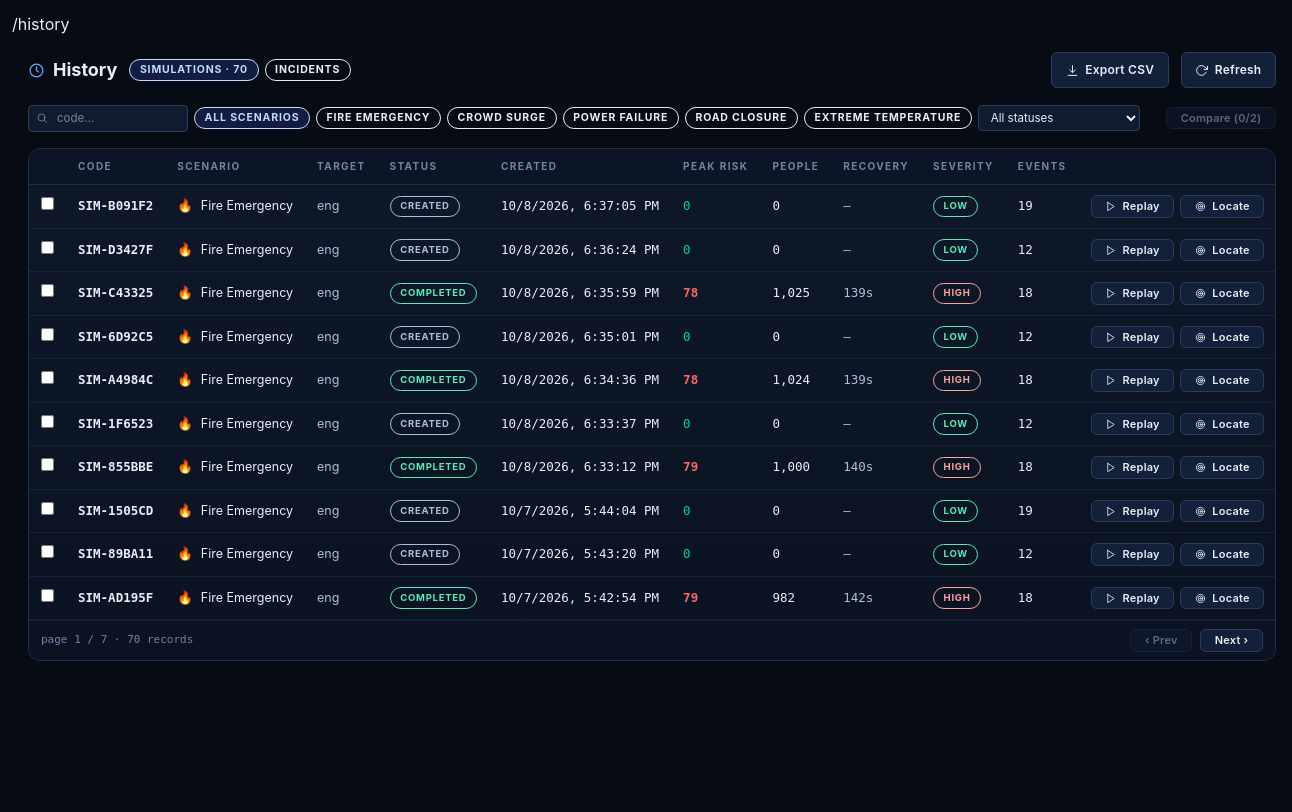
History §62 — simulations tab › filters by scenario through URL state
This screenshot has width=1292, height=812.
Click the button with test id "scenario-crowd": (502, 118) [447,107,557,129]
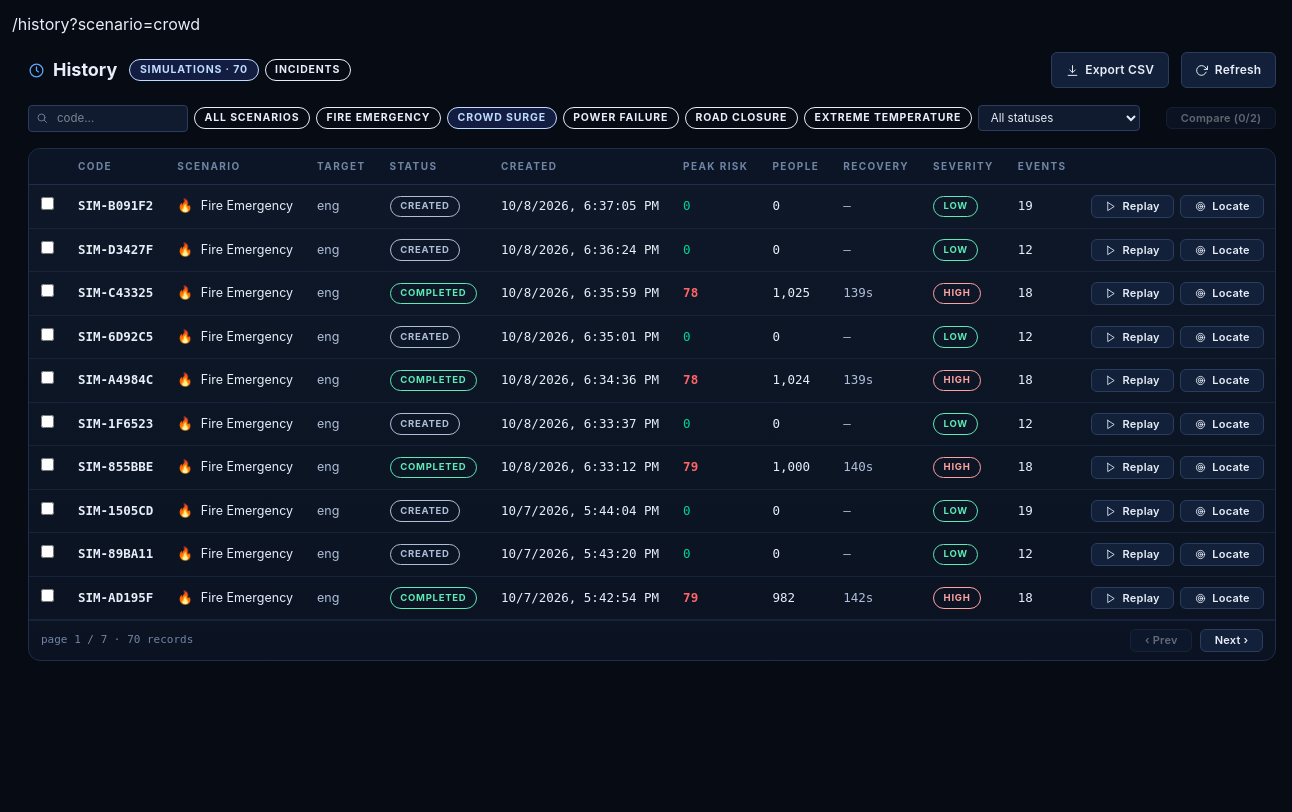
Check: the text with test id "loc" shows "scenario=crowd", box [12,14,200,34]
